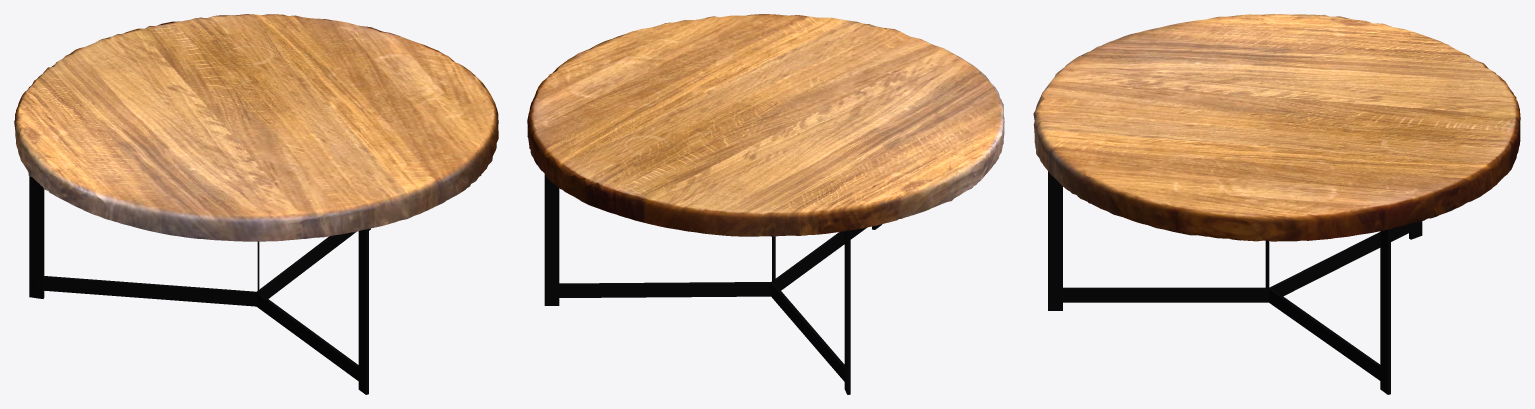
File: mesa.glb
3 renders of one model, left to right at view 1: azimuth 30°, elevation 25°; view 2: azimuth 150°, elevation 25°; view 3: azimuth 270°, elevation 25°, orthographic. The views are drawn at different scales.
Parts seen in each view (by area): view 1: unnamed 2, Würfel 6, Würfel 3, Würfel, Würfel 5, Würfel 7; view 2: unnamed 2, Würfel 7, Würfel 4, Würfel 6, Würfel 5, Würfel 3; view 3: unnamed 2, Würfel 5, Würfel 6, Würfel, Würfel 7, Würfel 4.
Part boxes in pixels (box(x1,y1,x2,y2)): unnamed 2: box(14, 14, 498, 241); Würfel 6: box(37, 276, 257, 306); Würfel 3: box(29, 176, 44, 298); Würfel: box(358, 229, 368, 394); Würfel 5: box(256, 292, 358, 380); Würfel 7: box(257, 232, 355, 298); unnamed 2: box(527, 14, 1004, 236); Würfel 7: box(551, 282, 772, 298); Würfel 4: box(544, 174, 559, 305); Würfel 6: box(771, 282, 845, 382); Würfel 5: box(771, 227, 867, 290); Würfel 3: box(844, 230, 850, 394); unnamed 2: box(1033, 14, 1520, 241); Würfel 5: box(1055, 287, 1268, 302); Würfel 6: box(1269, 222, 1414, 296); Würfel: box(1048, 171, 1062, 310); Würfel 7: box(1269, 288, 1380, 380); Würfel 4: box(1380, 229, 1390, 394).
Bounding box in the file's own units: 1.87 × 0.8344 × 1.86.
Materials: 2 (1 with a texture image).
